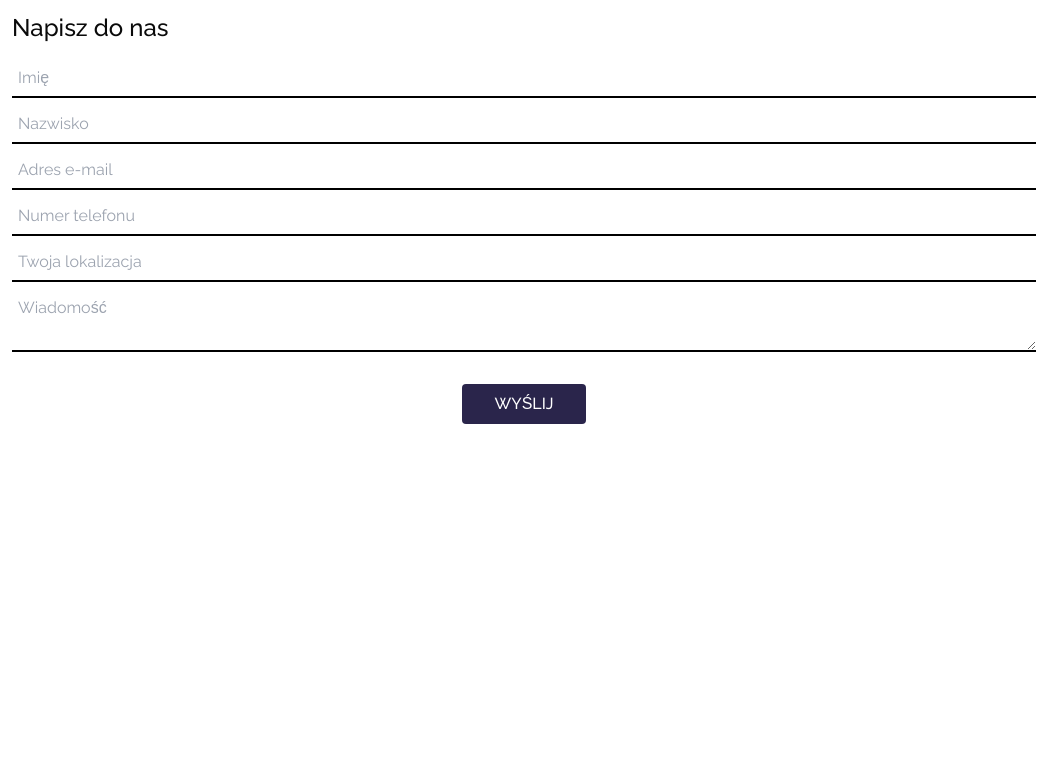
Test ContactForm › Should render validations errors
The width and height of the screenshot is (1048, 780).
Click the button with test id "submit_btn". click: (524, 404)
box: [462,384,586,424]
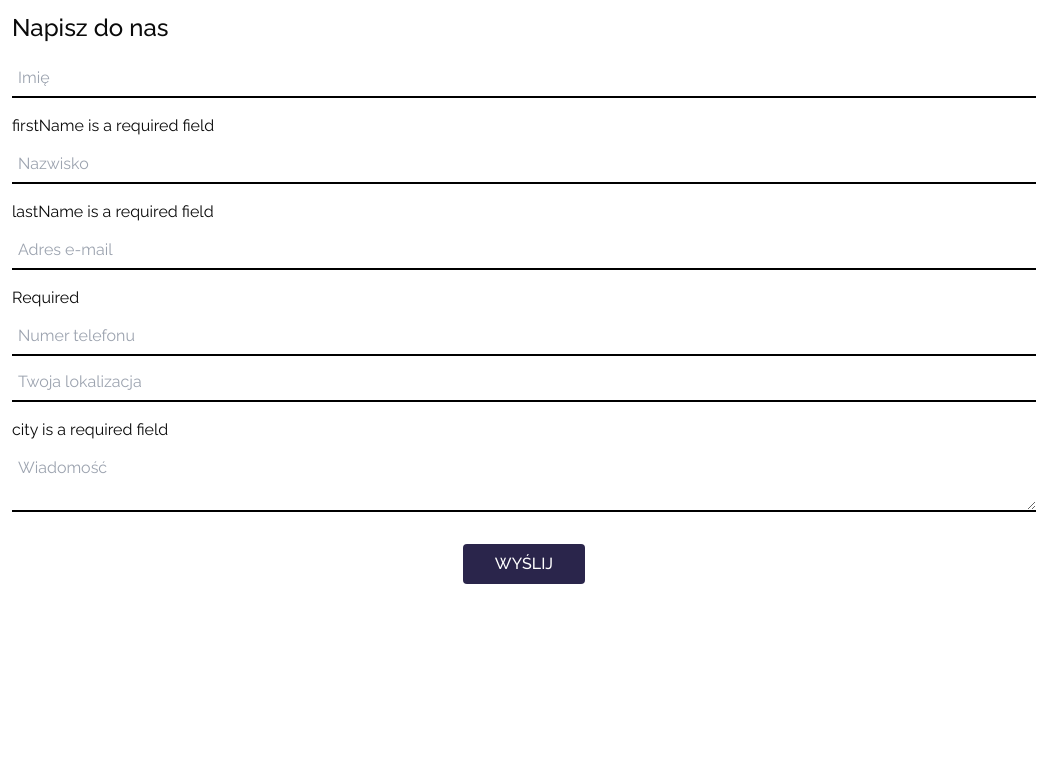
Result: the number of elements with test id "validation" is 4 at [12,116,214,135]; [12,202,214,221]; [12,288,79,307]; [12,420,168,439]
